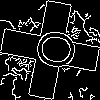O: (25, 25, 78, 72)
